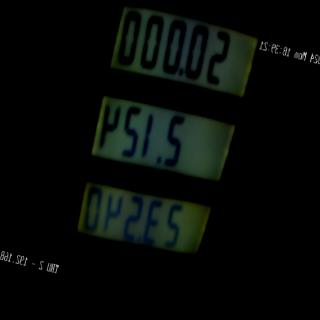screen: (53, 0, 266, 295)
